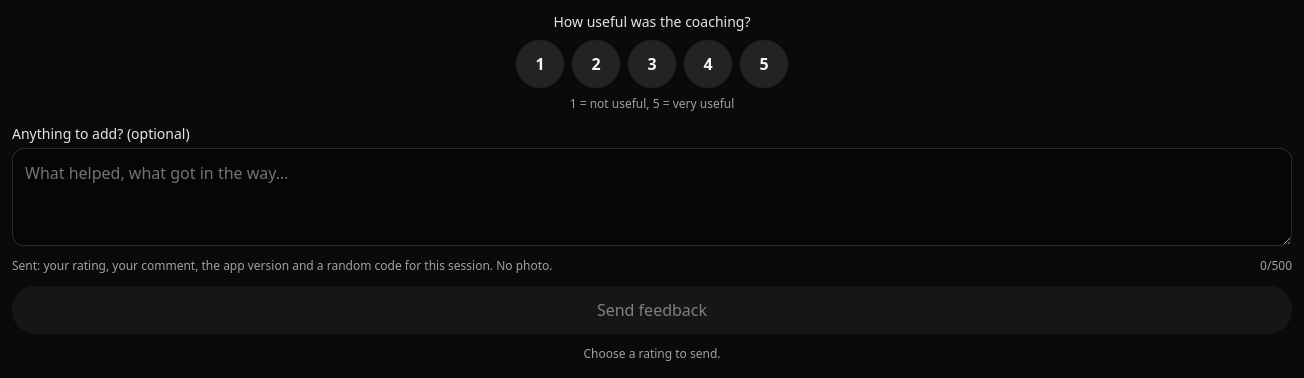
FeedbackForm › says saved only after the server confirmed it
Later steps or results of the test are not shown.
Click the radio button named "4 out of 5" at (708, 64), box left=684, top=40, right=732, bottom=88
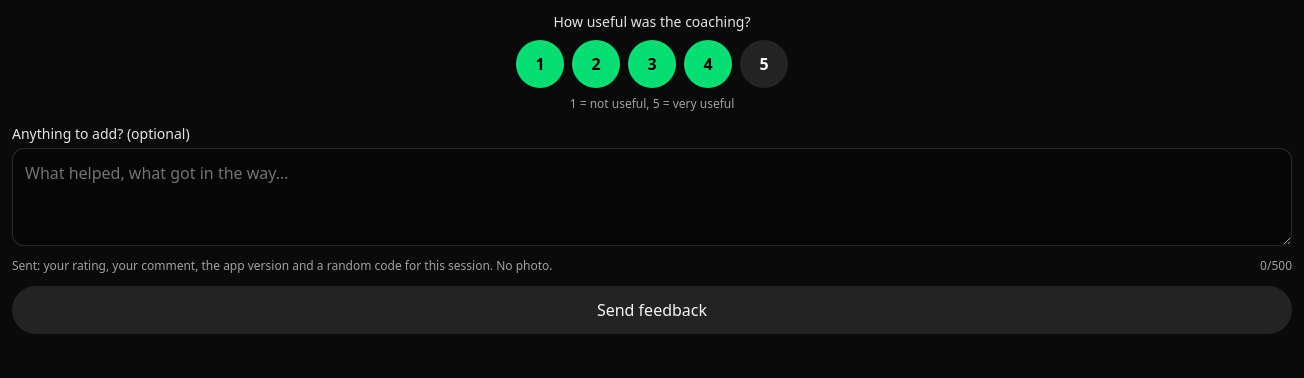
Type "  The outline helped.  " into the text box labelled "Anything to add? (optional)" at (652, 197), box left=12, top=148, right=1292, bottom=246
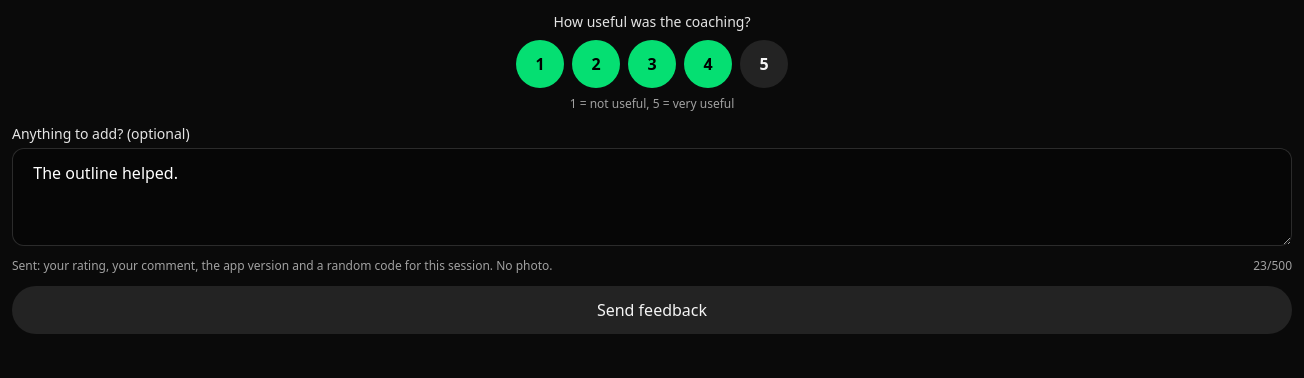
Click the button "Send feedback" at (652, 310), box left=12, top=286, right=1292, bottom=334
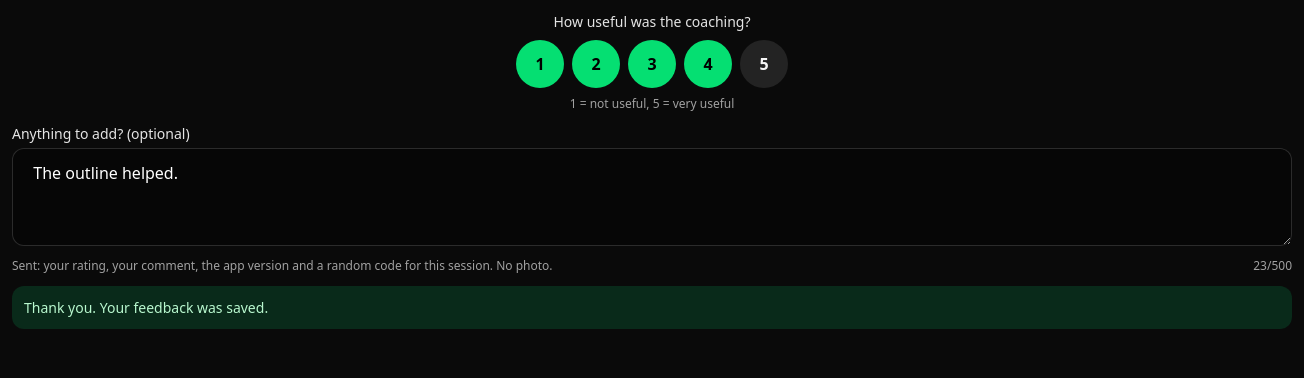
Check: the text box labelled "Anything to add? (optional)" is disabled, box left=12, top=148, right=1292, bottom=246
Check: the text "Thank you. Your feedback was saved." is shown, box left=12, top=286, right=1292, bottom=329
Check: the button "Send feedback" is gone
